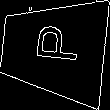P_W: (27, 29, 81, 71)
